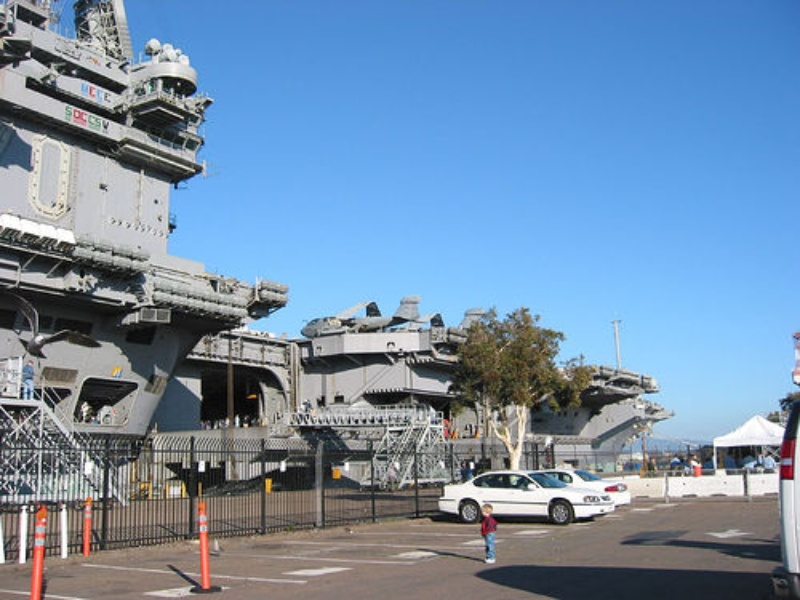car: (435, 471, 617, 524), (548, 469, 629, 506)
person: (481, 504, 498, 564)
